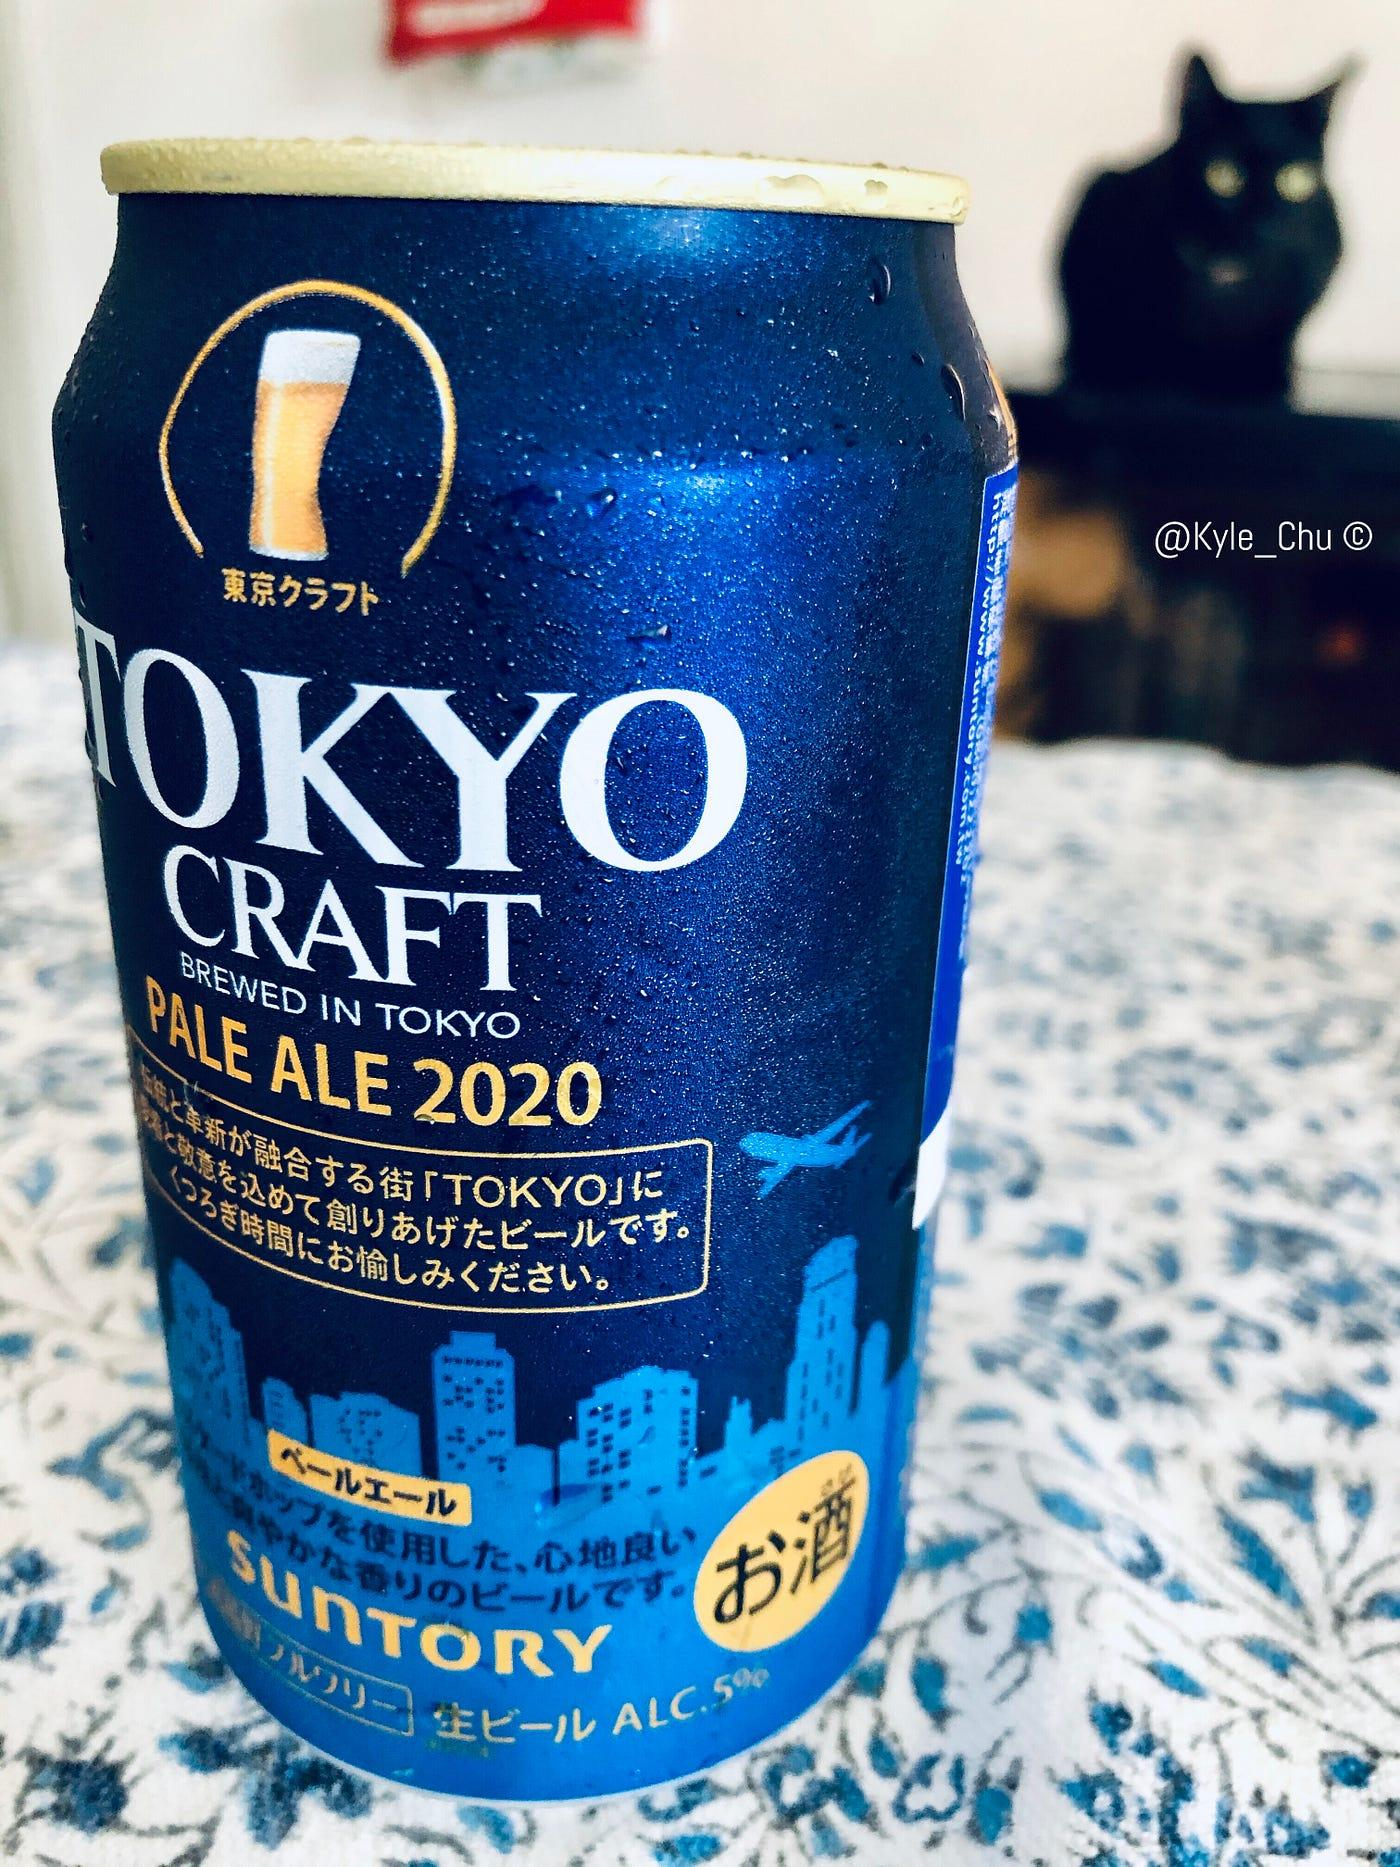metal: (43, 121, 1024, 1786)
